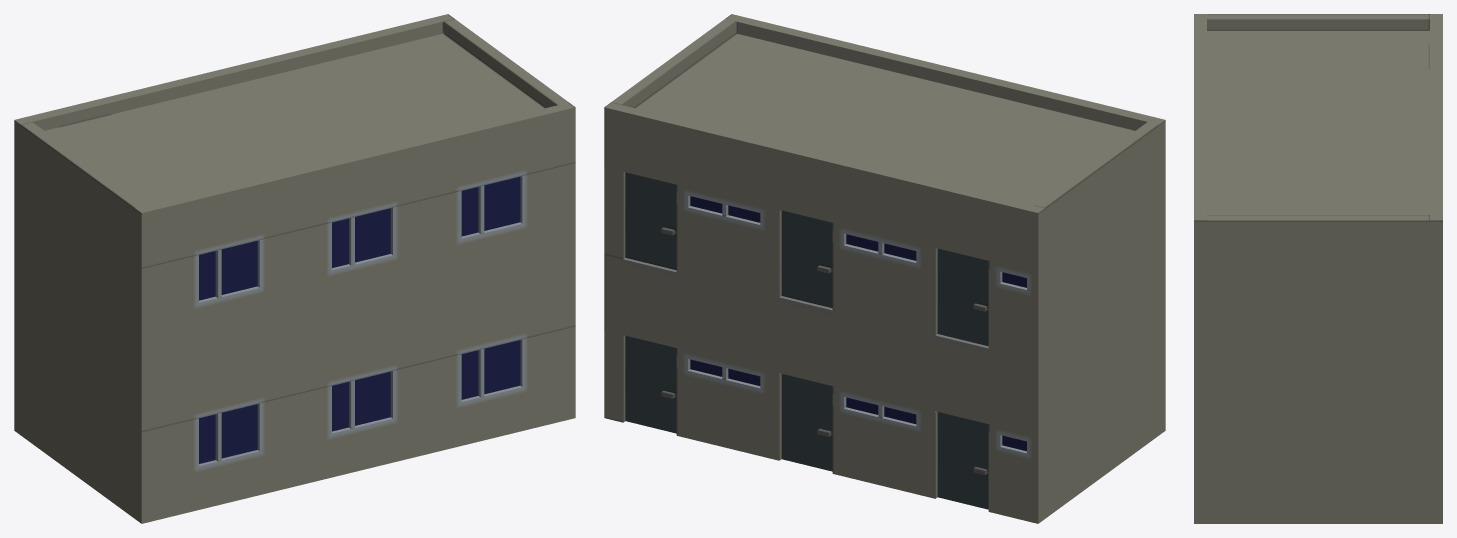
File: domek_w_stylu_japan.dae
The picture shows the model from 3 angles, left to right: view 1: azimuth 30°, elevation 25°; view 2: azimuth 150°, elevation 25°; view 3: azimuth 270°, elevation 25°; orthographic projection. The views are drawn at different scales.
Visible parts, largest first — view 1: Content; view 2: Content; view 3: Content.
Part boxes in pixels (<box>): Content: <box>14,14,575,523</box>; Content: <box>604,14,1165,523</box>; Content: <box>1194,14,1442,523</box>.
Size of the model in its own units: 114 by 78 by 58.
Materials: 1 (1 with a texture image).
